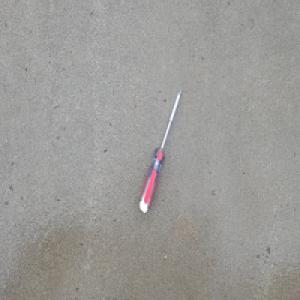Screwdriver: (138, 84, 184, 213)
